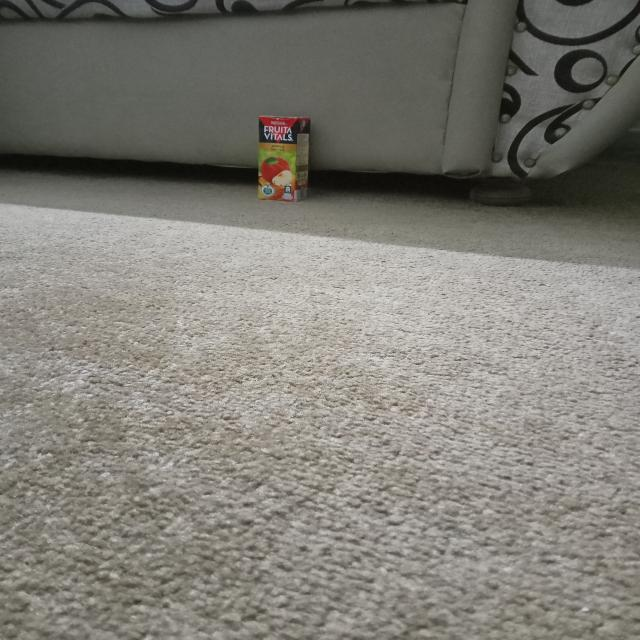Plastic: (254, 111, 312, 205)
